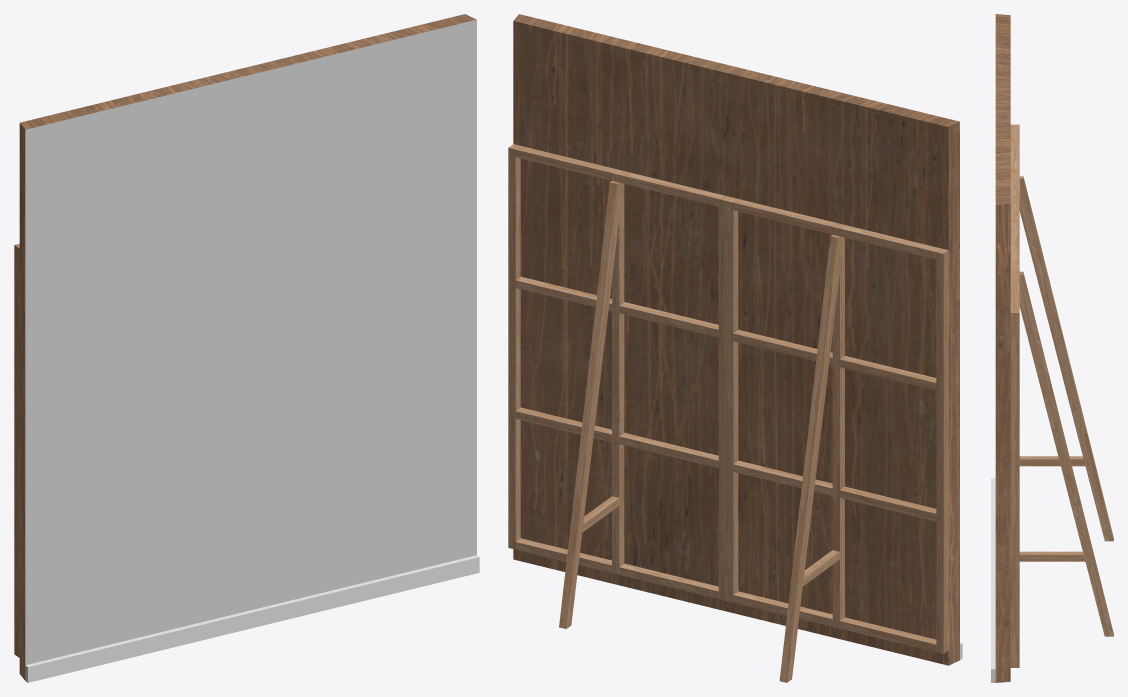
Rendered from MovieSet_Wall_Large.fbx.
The picture shows the model from 3 angles, left to right: view 1: azimuth 30°, elevation 25°; view 2: azimuth 150°, elevation 25°; view 3: azimuth 270°, elevation 25°; orthographic projection. The views are drawn at different scales.
Parts seen in each view (by area): view 1: MovieSet_Wall_Large; view 2: MovieSet_Wall_Large; view 3: MovieSet_Wall_Large.
Boxes of the visible parts, x1,y1,x2,y2 form: MovieSet_Wall_Large: (14,14,479,682); MovieSet_Wall_Large: (508,14,962,682); MovieSet_Wall_Large: (991,14,1113,682).
Size of the model in its own units: 3 by 3.5 by 0.8145.
